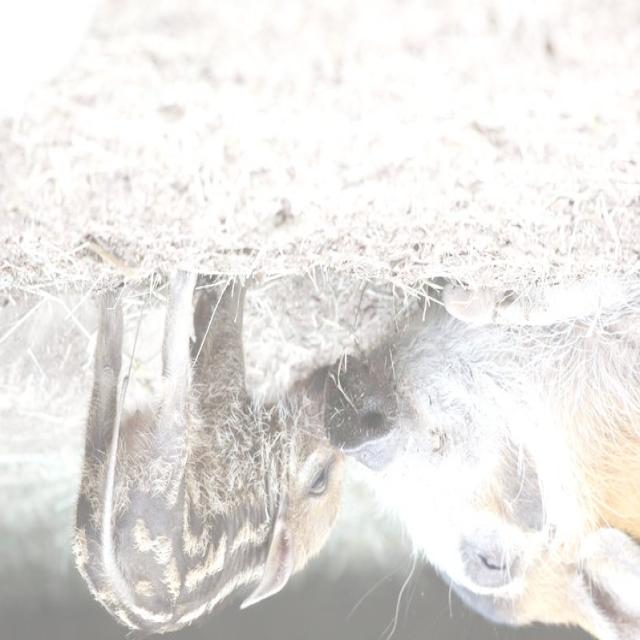pig: (325, 279, 640, 640), (74, 272, 344, 632)
